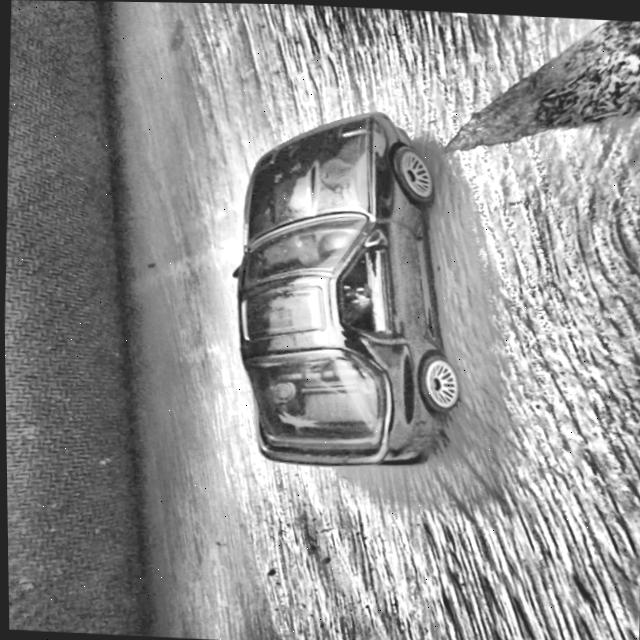car: (222, 103, 469, 472)
